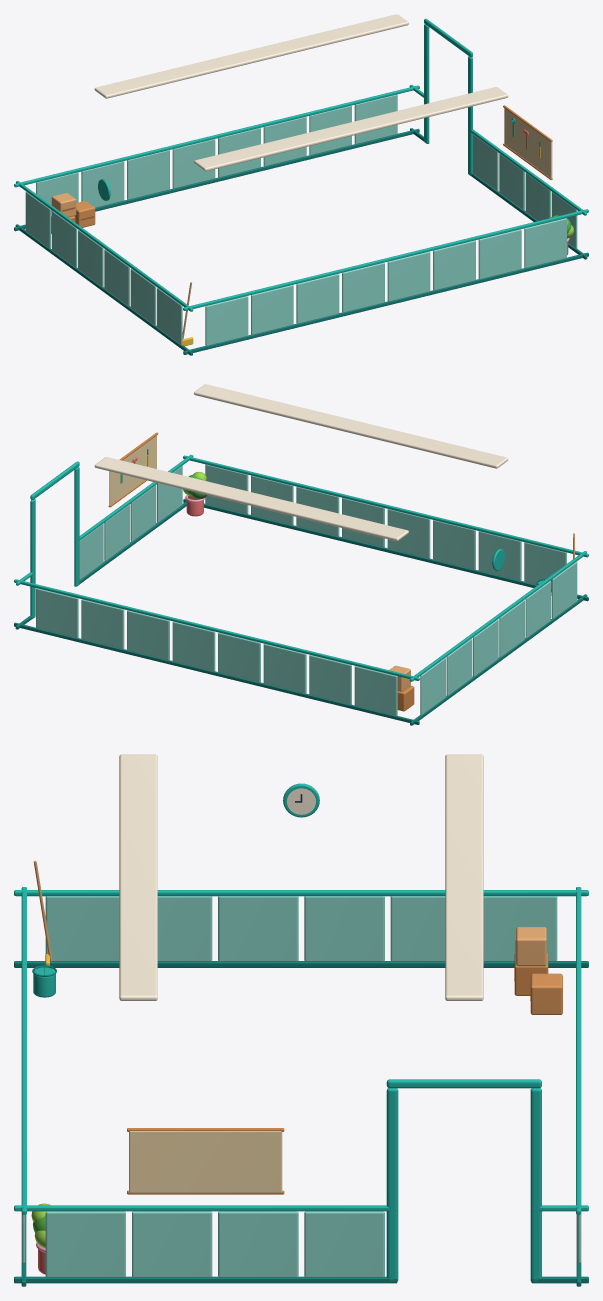
Rendered from WorkshopDressing.fbx.
3 renders of one model, top to bottom at view 1: azimuth 30°, elevation 25°; view 2: azimuth 150°, elevation 25°; view 3: azimuth 270°, elevation 25°, orthographic. The views are drawn at different scales.
Parts seen in each view (by area): view 1: WorkshopDressing mesh; view 2: WorkshopDressing mesh; view 3: WorkshopDressing mesh.
Part boxes in pixels (<box>): WorkshopDressing mesh: <box>14,14,588,355</box>; WorkshopDressing mesh: <box>14,384,588,725</box>; WorkshopDressing mesh: <box>14,754,588,1286</box>.
Size of the model in its own units: 10 by 3.6 by 7.5.
